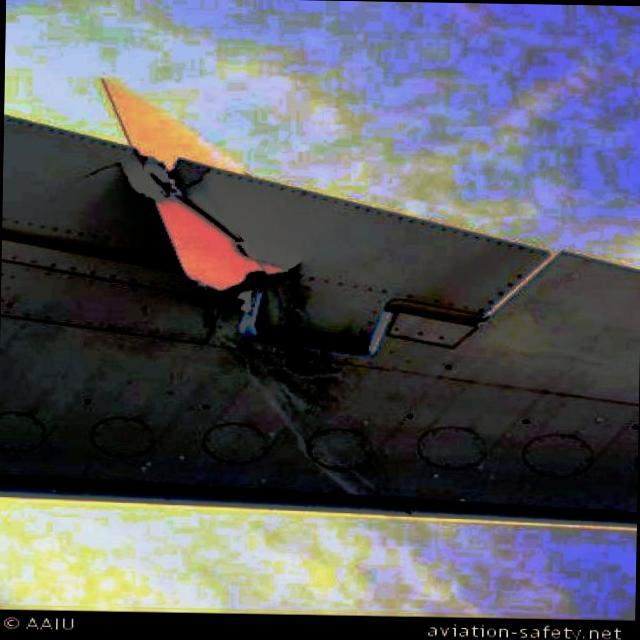crack: (76, 144, 317, 287)
